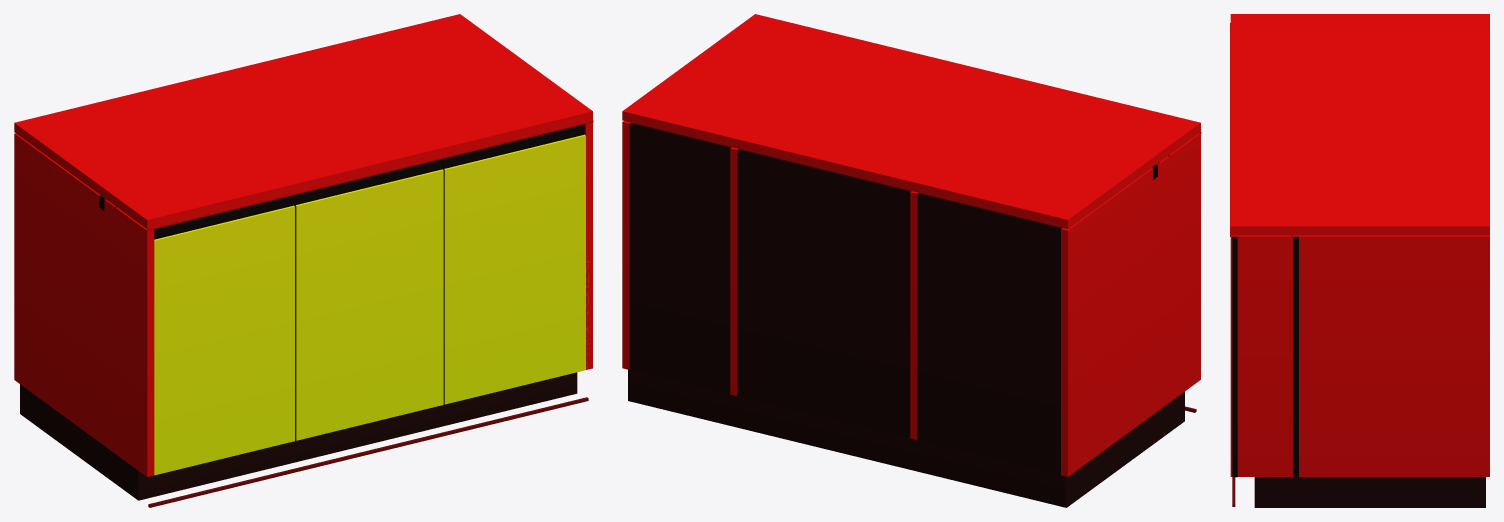
The model's file is stand_modern.glb.
3 views of the same model, side by side, from view 1: azimuth 30°, elevation 25°; view 2: azimuth 150°, elevation 25°; view 3: azimuth 270°, elevation 25° (orthographic). The views are drawn at different scales.
Visible parts, largest first — view 1: display_120, long_reef_60, nano_cube_20, rimless_40; view 2: display_120, rimless_40, nano_cube_20, long_reef_60; view 3: display_120, long_reef_60, rimless_40, nano_cube_20.
Part boxes in pixels (box(x1,y1,x2,y2)): display_120: box(14, 14, 593, 507); long_reef_60: box(14, 14, 561, 477); nano_cube_20: box(14, 84, 262, 476); rimless_40: box(19, 42, 452, 484); display_120: box(622, 14, 1201, 507); rimless_40: box(730, 63, 1168, 506); nano_cube_20: box(910, 116, 1159, 507); long_reef_60: box(624, 41, 1170, 505); display_120: box(1230, 14, 1489, 507); long_reef_60: box(1291, 14, 1489, 507); rimless_40: box(1291, 14, 1489, 174); nano_cube_20: box(1312, 14, 1489, 89).
Size of the model in its own units: 126 by 78.39 by 65.15.
